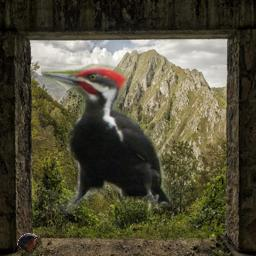Swallow: (17, 233, 40, 253)
Woodpecker: (41, 58, 172, 214)
